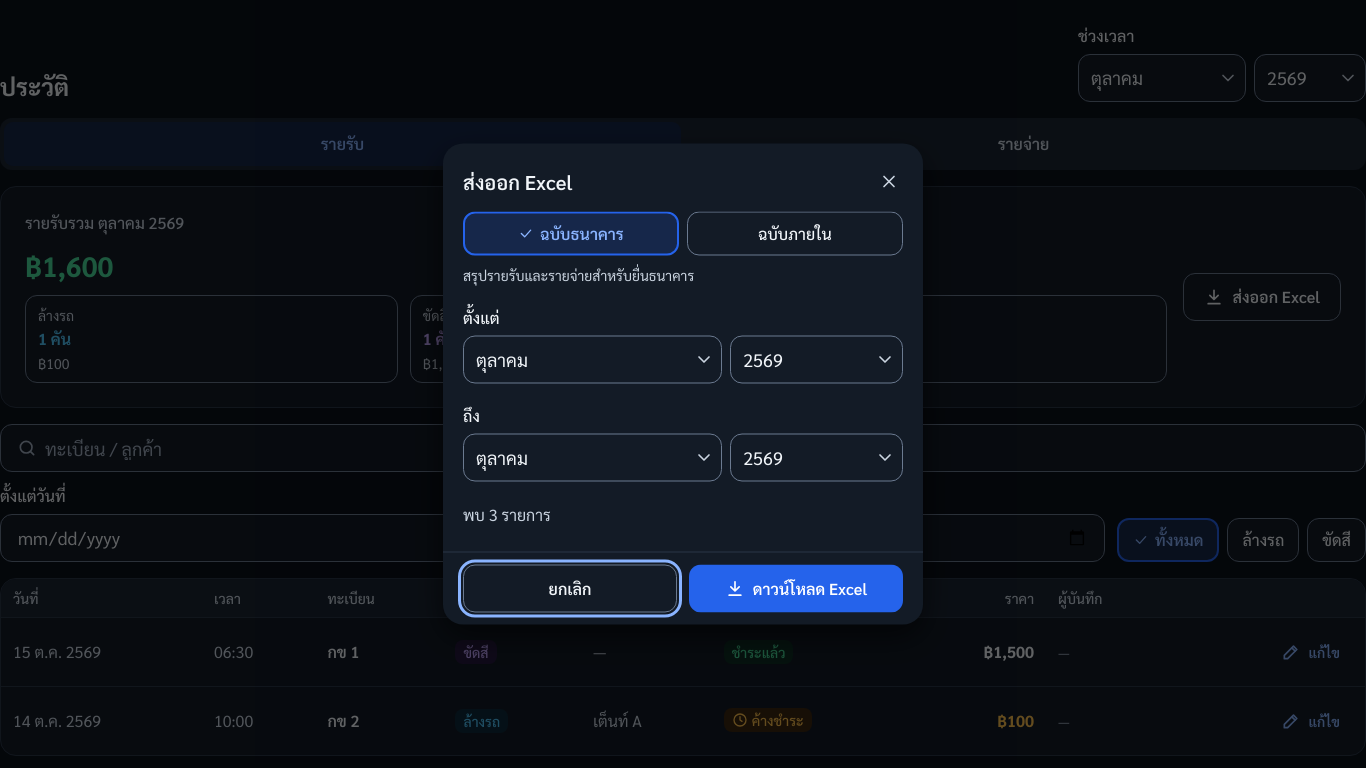
Test: HistoryScreen › exports the chosen months and builds no file from partial data (ER-07)
Step 1. Click the button "ดาวน์โหลด Excel" → (796, 588), box x1=689 y1=564 x2=903 y2=612
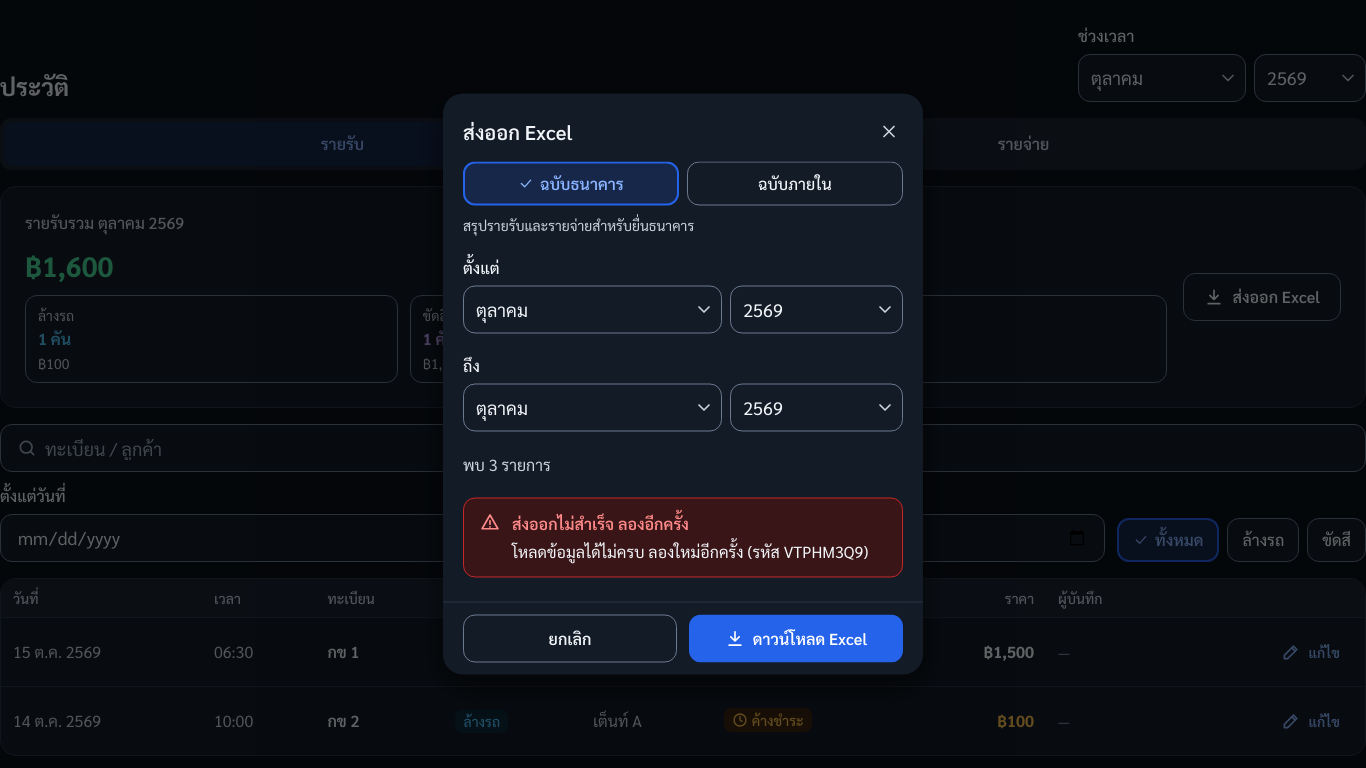
Check: the message shows "ส่งออกไม่สำเร็จ", box x1=512 y1=512 x2=689 y2=534
Step 2. Click the button "ดาวน์โหลด Excel" → (796, 638), box x1=689 y1=614 x2=903 y2=662
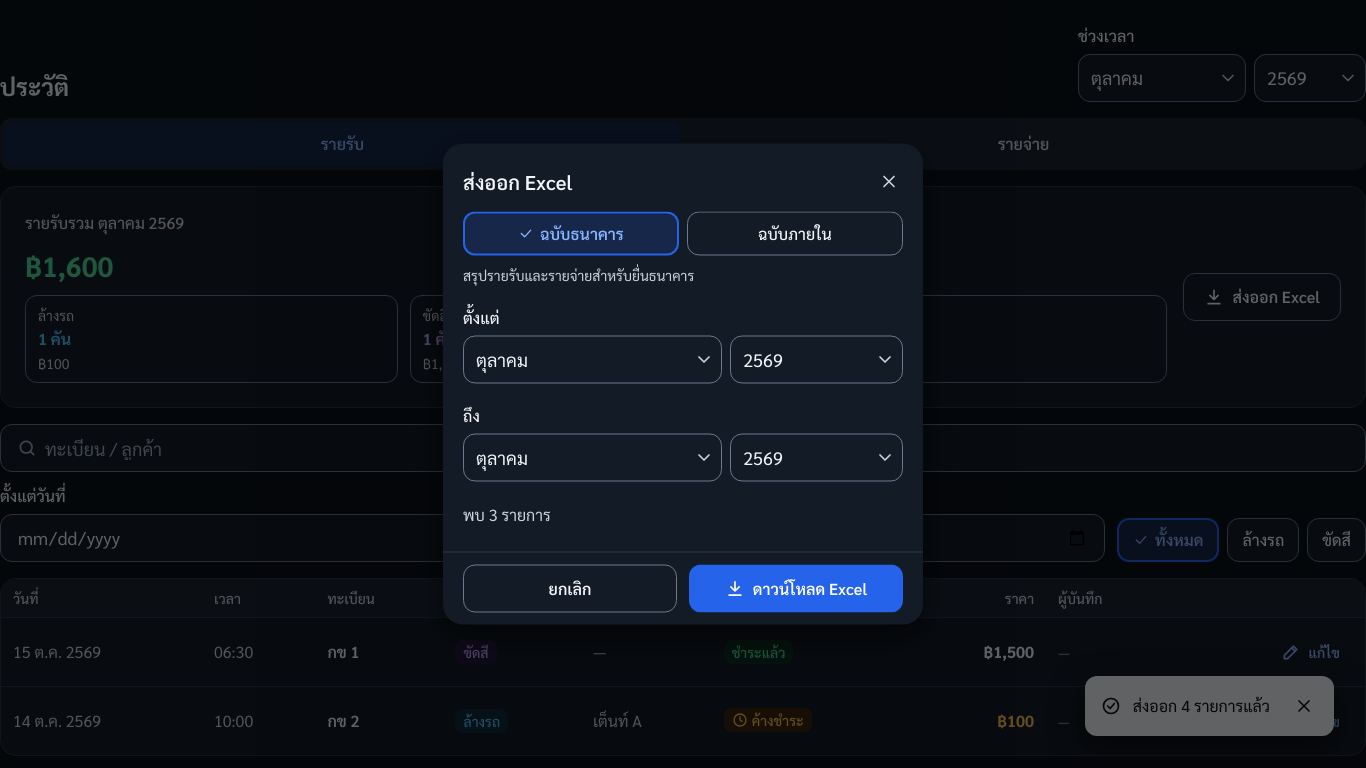
Check: the message reads "ส่งออก 4 รายการแล้ว", box x1=1133 y1=695 x2=1270 y2=716
